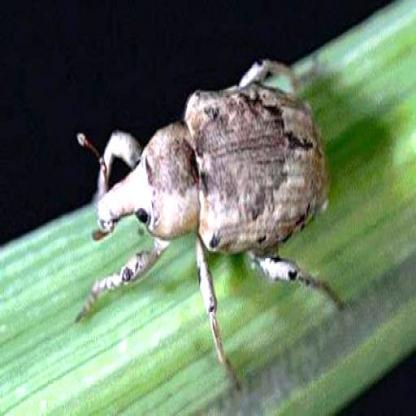rice-bug: (95, 60, 329, 296)
